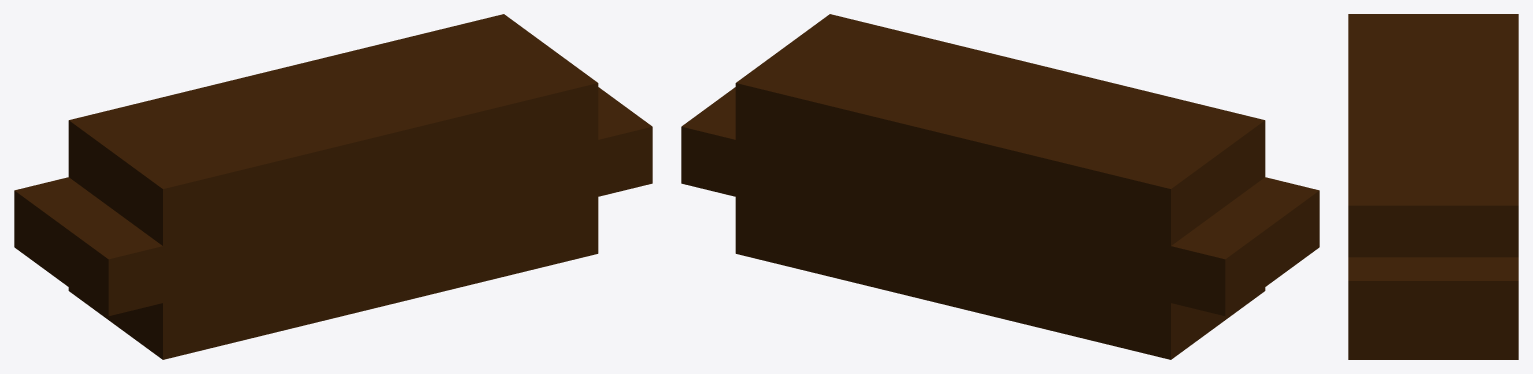
Rendered from Regular.dae.
3 renders of one model, left to right at view 1: azimuth 30°, elevation 25°; view 2: azimuth 150°, elevation 25°; view 3: azimuth 270°, elevation 25°, orthographic. The views are drawn at different scales.
Visible parts, largest first — view 1: Regular; view 2: Regular; view 3: Regular.
Part boxes in pixels (left/top/right/bottom): Regular: left=14, top=14, right=652, bottom=359; Regular: left=681, top=14, right=1319, bottom=359; Regular: left=1348, top=14, right=1518, bottom=359.
Size of the model in its own units: 10 by 3 by 3.
Materials: 1 (1 with a texture image).
